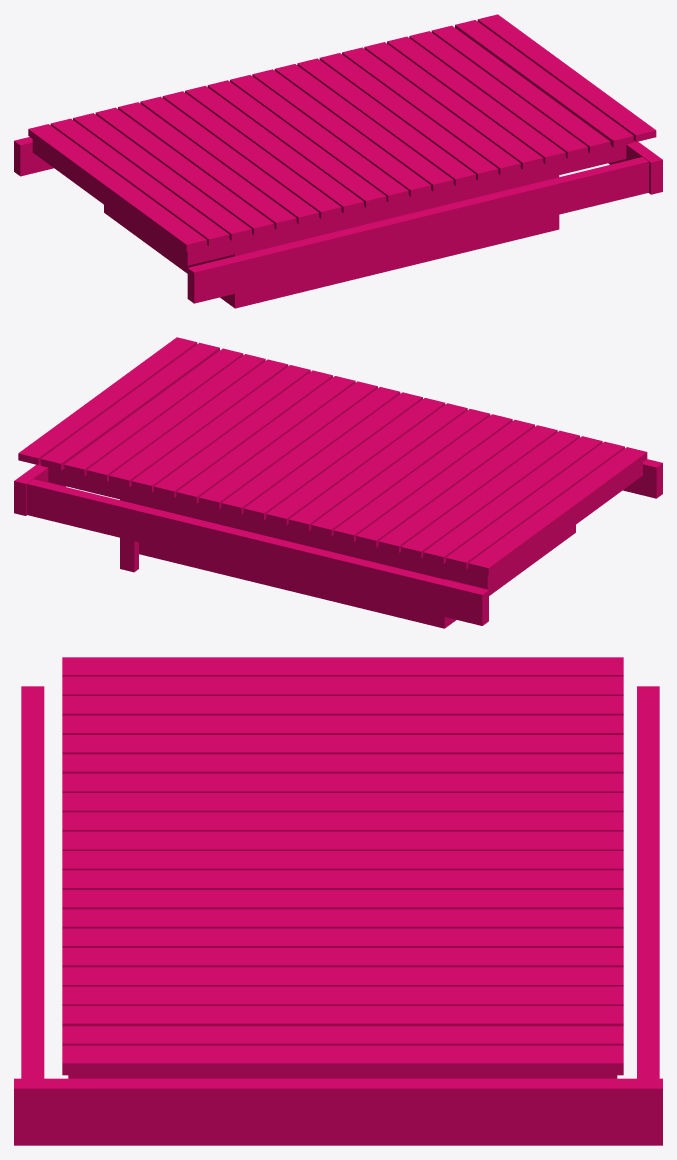
Rendered from Factory_Machine_04B.fbx.
3 renders of one model, top to bottom at view 1: azimuth 30°, elevation 25°; view 2: azimuth 150°, elevation 25°; view 3: azimuth 270°, elevation 25°, orthographic. The views are drawn at different scales.
Visible parts, largest first — view 1: Factory_Machine_04B; view 2: Factory_Machine_04B; view 3: Factory_Machine_04B.
Boxes of the visible parts, x1,y1,x2,y2 form: Factory_Machine_04B: [14, 14, 662, 308]; Factory_Machine_04B: [14, 337, 662, 628]; Factory_Machine_04B: [14, 657, 662, 1145].
Size of the model in its own units: 488 by 85.41 by 327.
